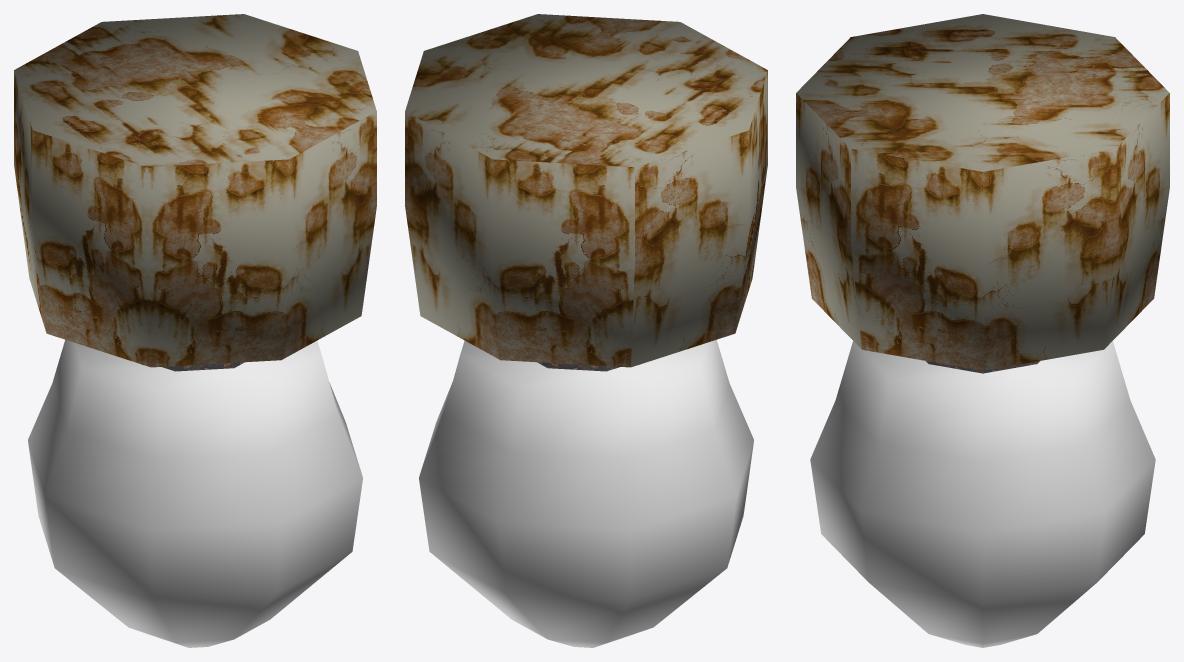
Rendered from ceiling_fan_base.glb.
3 renders of one model, left to right at view 1: azimuth 30°, elevation 25°; view 2: azimuth 150°, elevation 25°; view 3: azimuth 270°, elevation 25°, orthographic.
Parts seen in each view (by area): view 1: CeilingFanBase; view 2: CeilingFanBase; view 3: CeilingFanBase.
Boxes of the visible parts, left/top/right/bottom form: CeilingFanBase: left=14, top=14, right=376, bottom=647; CeilingFanBase: left=405, top=14, right=767, bottom=647; CeilingFanBase: left=796, top=14, right=1169, bottom=647.
Size of the model in its own units: 0.4932 by 0.7927 by 0.4932.
Materials: 3 (2 with a texture image).
